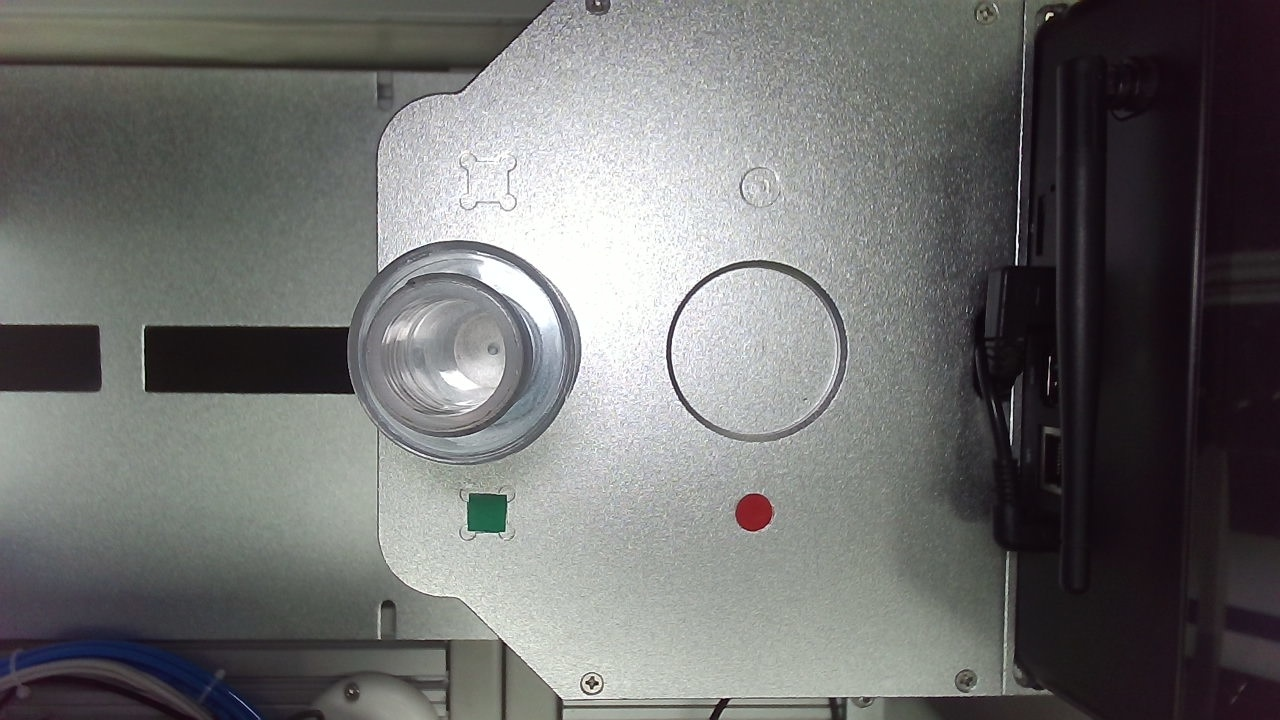XLabel: (784, 362, 817, 396)
YLabel: (565, 368, 600, 403)
none: (728, 431, 888, 593)
transparenexcept: (476, 443, 694, 687)
